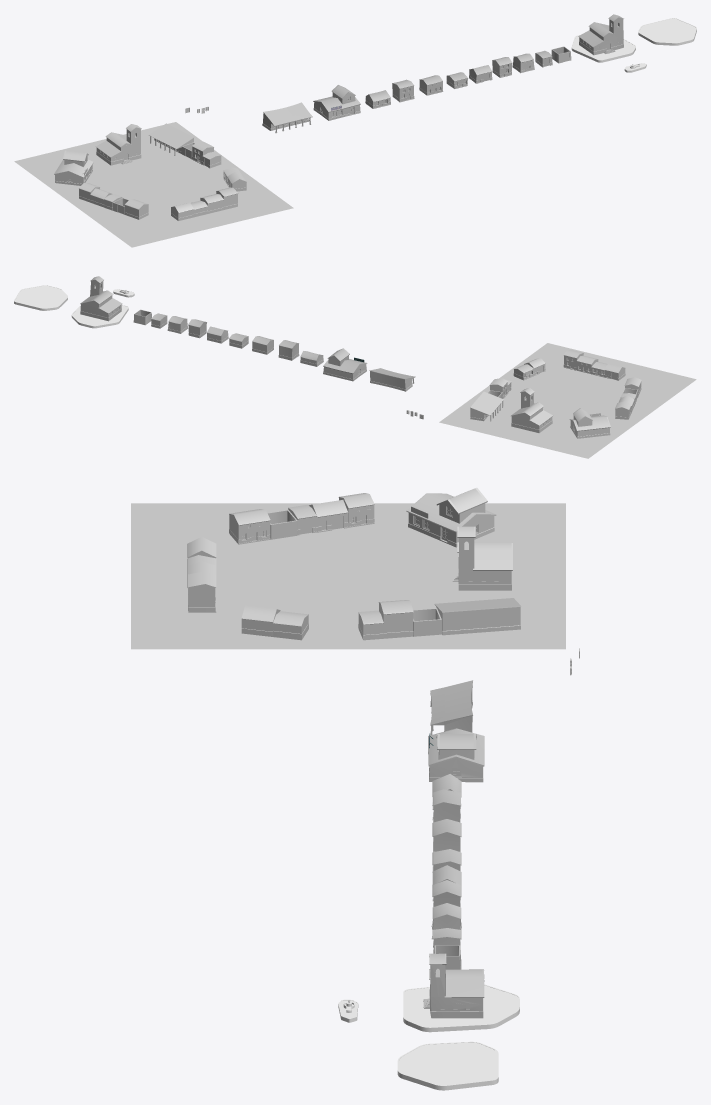
The model's file is CasasGenericas_G.fbx.
3 renders of one model, top to bottom at view 1: azimuth 30°, elevation 25°; view 2: azimuth 150°, elevation 25°; view 3: azimuth 270°, elevation 25°, orthographic. The views are drawn at different scales.
Parts seen in each view (by area): view 1: Plane002, Line001, Iglesia, Iglesia001, Box036, Box003, CentroSocial, Box002, CasasGenericas_B, CasasGenericas_C, Box031, CasasGenericas_A; view 2: Plane002, Line001, Iglesia001, Iglesia, Box036, Box003, CentroSocial, Box002, CasasGenericas_B, CasasGenericas_C, CasasGenericas_G, CasasGenericas_H; view 3: Plane002, Line001, Box003, Iglesia001, Iglesia, Box036, Box002, CentroSocial, Box031, Box021, Box033, Box026 (+3 smaller).
Boxes of the visible parts, left/top/right/bottom form: Plane002: left=14, top=122, right=293, bottom=247; Line001: left=571, top=18, right=696, bottom=72; Iglesia: left=95, top=124, right=141, bottom=165; Iglesia001: left=578, top=14, right=623, bottom=55; Box036: left=313, top=85, right=360, bottom=120; Box003: left=54, top=150, right=93, bottom=185; CentroSocial: left=262, top=102, right=312, bottom=133; Box002: left=149, top=123, right=194, bottom=153; CasasGenericas_B: left=392, top=79, right=414, bottom=102; CasasGenericas_C: left=419, top=75, right=443, bottom=95; Box031: left=125, top=199, right=148, bottom=219; CasasGenericas_A: left=365, top=90, right=390, bottom=108; Plane002: left=439, top=343, right=696, bottom=458; Line001: left=14, top=285, right=134, bottom=328; Iglesia001: left=80, top=276, right=122, bottom=321; Iglesia: left=511, top=388, right=553, bottom=432; Box036: left=323, top=348, right=367, bottom=381; Box003: left=569, top=408, right=610, bottom=438; CentroSocial: left=369, top=368, right=415, bottom=391; Box002: left=470, top=391, right=503, bottom=421; CasasGenericas_B: left=278, top=340, right=299, bottom=360; CasasGenericas_C: left=252, top=336, right=273, bottom=354; CasasGenericas_G: left=188, top=319, right=206, bottom=338; CasasGenericas_H: left=167, top=316, right=188, bottom=333; Plane002: left=131, top=503, right=565, bottom=649; Line001: left=338, top=984, right=519, bottom=1090; Box003: left=406, top=487, right=496, bottom=547; Iglesia001: left=423, top=953, right=484, bottom=1018; Iglesia: left=452, top=526, right=512, bottom=590; Box036: left=428, top=728, right=484, bottom=782; Box002: left=434, top=598, right=521, bottom=635; CentroSocial: left=430, top=680, right=472, bottom=734; Box031: left=229, top=509, right=270, bottom=544; Box021: left=378, top=600, right=413, bottom=638; Box033: left=187, top=571, right=216, bottom=612; Box026: left=241, top=605, right=280, bottom=636.
Bounding box in the file's own units: 224 × 11.45 × 72.92.
